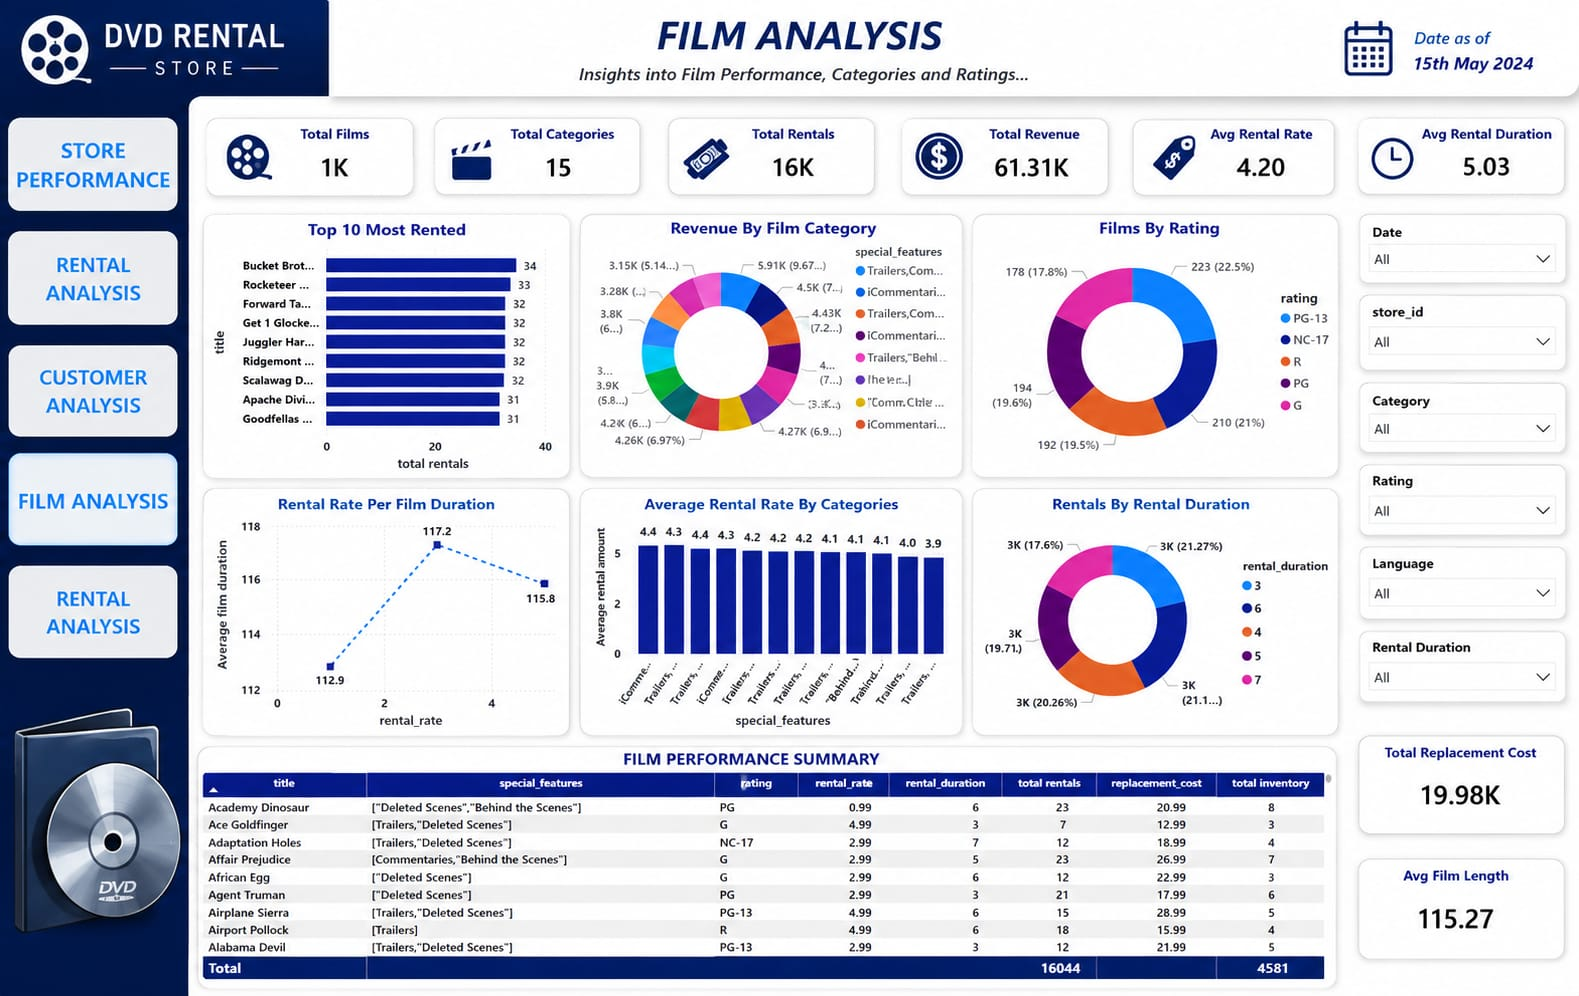

This screenshot's page, from the dashboard's own definition file:
{"tool":"powerbi","page":{"name":"Page 4","canvas":[1800,1200],"ordinal":3},"visuals":[{"type":"textbox","box":[0,0,1800,110],"z":0},{"type":"actionButton","box":[0,273.7,240,136.8],"z":0,"group":"g2"},{"type":"slicer","fields":{"Values":["public film.last_update"]},"box":[1527.5,280,260,103.3],"z":0,"group":"g1"},{"type":"cardVisual","title":"Total Films","fields":{"Data":["public film.total films"]},"box":[260,137.5,217.5,110],"z":1000},{"type":"slicer","fields":{"Values":["public store.store_id"]},"box":[1527.5,383.3,260,103.3],"z":1000,"group":"g1"},{"type":"actionButton","box":[0,410.4,240,136.8],"z":1000,"group":"g2"},{"type":"actionButton","title":"STORE PERFORMANCE","box":[0,137.5,240,136.8],"z":2000,"group":"g2"},{"type":"cardVisual","title":"Total Categories","fields":{"Data":["public film.Total Categories"]},"box":[495,137.5,240,110],"z":2000},{"type":"slicer","fields":{"Values":["public film.special_features"]},"box":[1527.5,486.7,260,103.3],"z":2000,"group":"g1"},{"type":"cardVisual","title":"Total Rentals","fields":{"Data":["public rental.total rentals"]},"box":[752.5,137.5,240,110],"z":3000},{"type":"actionButton","box":[0,556.5,240,136.8],"z":3000,"group":"g2"},{"type":"slicer","fields":{"Values":["public film.rating"]},"box":[1527.5,590,260,103.3],"z":3000,"group":"g1"},{"type":"cardVisual","title":"Total Revenue","fields":{"Data":["public payment.total revenue"]},"box":[1017.5,137.5,240,110],"z":4000},{"type":"slicer","fields":{"Values":["public language.name"]},"box":[1527.5,693.3,260,103.3],"z":4000,"group":"g1"},{"type":"actionButton","box":[0,705.7,240,136.8],"z":4000,"group":"g2"},{"type":"cardVisual","title":"Avg Rental Rate","fields":{"Data":["public payment.Average rental amount"]},"box":[1277.5,137.5,240,110],"z":5000},{"type":"slicer","fields":{"Values":["public film.rental_duration"]},"box":[1527.5,796.7,260,103.3],"z":5000,"group":"g1"},{"type":"cardVisual","title":"Avg Rental Duration","fields":{"Data":["public rental.Average rental duration"]},"box":[1537.5,137.5,240,110],"z":6000},{"type":"barChart","title":"Top 10 Most Rented","fields":{"Category":["public film.title"],"Y":["public rental.total rentals"]},"box":[260,280,377.5,300],"z":7000},{"type":"donutChart","title":"Revenue By Film Category","fields":{"Y":["public payment.total revenue"],"Category":["public film.special_features"]},"box":[672.5,280,400,300],"z":8000},{"type":"donutChart","title":"Films By Rating","fields":{"Y":["public film.total films"],"Category":["public film.rating"]},"box":[1095,280,400,300],"z":9000},{"type":"lineChart","title":"Rental Rate Per Film Duration","fields":{"Category":["public film.rental_rate"],"Y":["public film.Average film duration"]},"box":[260,600,377.5,300],"z":10000},{"type":"clusteredColumnChart","title":"Average Rental Rate By Categories","fields":{"Y":["public payment.Average rental amount"],"Category":["public film.special_features"]},"box":[672.5,600,400,300],"z":11000},{"type":"donutChart","title":"Rentals By Rental Duration","fields":{"Y":["public rental.total rentals"],"Category":["public film.rental_duration"]},"box":[1095,600,400,300],"z":12000},{"type":"tableEx","title":"FILM PERFORMANCE  SUMMARY","fields":{"Values":["public film.title","public film.special_features","public film.rating","public film.rental_rate","public film.rental_duration","public rental.total rentals","public film.replacement_cost","public inventory.total inventory"]},"box":[240,920,1277.5,280],"z":13000},{"type":"actionButton","box":[0,0,100,40],"z":14000},{"type":"cardVisual","title":"Avg Film Length","fields":{"Data":["public film.Average film duration"]},"box":[1537.5,1060,262.5,110],"z":15000},{"type":"cardVisual","title":"Total Replacement Cost","fields":{"Data":["public film.Total Replacement Cost"]},"box":[1537.5,920,262.5,110],"z":16000},{"type":"group","id":"g1","title":"Group 1","box":[1527.5,280,260,620],"z":17000},{"type":"group","id":"g2","title":"Group 2","box":[0,137.5,240,705],"z":18000},{"type":"image","box":[1367.5,10,150,100],"z":19000},{"type":"image","box":[0,0,332.5,110],"z":20000},{"type":"image","box":[0,847.5,240,352.5],"z":21000}]}

Visuals, with their boxes on the page's 1800x1200 design canvas (x1, y1, x2, y2). These are canvas units, not pixel positions in the 1579x996 screenshot, which may show the page scaled, cropped or inside an application window:
textbox: [left=0, top=0, right=1800, bottom=110]
actionButton: [left=0, top=274, right=240, bottom=410]
slicer - public film.last_update: [left=1528, top=280, right=1788, bottom=383]
"Total Films" cardVisual: [left=260, top=138, right=478, bottom=248]
slicer - public store.store_id: [left=1528, top=383, right=1788, bottom=487]
actionButton: [left=0, top=410, right=240, bottom=547]
"STORE PERFORMANCE" actionButton: [left=0, top=138, right=240, bottom=274]
"Total Categories" cardVisual: [left=495, top=138, right=735, bottom=248]
slicer - public film.special_features: [left=1528, top=487, right=1788, bottom=590]
"Total Rentals" cardVisual: [left=752, top=138, right=992, bottom=248]
actionButton: [left=0, top=556, right=240, bottom=693]
slicer - public film.rating: [left=1528, top=590, right=1788, bottom=693]
"Total Revenue" cardVisual: [left=1018, top=138, right=1258, bottom=248]
slicer - public language.name: [left=1528, top=693, right=1788, bottom=797]
actionButton: [left=0, top=706, right=240, bottom=842]
"Avg Rental Rate" cardVisual: [left=1278, top=138, right=1518, bottom=248]
slicer - public film.rental_duration: [left=1528, top=797, right=1788, bottom=900]
"Avg Rental Duration" cardVisual: [left=1538, top=138, right=1778, bottom=248]
"Top 10 Most Rented" barChart: [left=260, top=280, right=638, bottom=580]
"Revenue By Film Category" donutChart: [left=672, top=280, right=1072, bottom=580]
"Films By Rating" donutChart: [left=1095, top=280, right=1495, bottom=580]
"Rental Rate Per Film Duration" lineChart: [left=260, top=600, right=638, bottom=900]
"Average Rental Rate By Categories" clusteredColumnChart: [left=672, top=600, right=1072, bottom=900]
"Rentals By Rental Duration" donutChart: [left=1095, top=600, right=1495, bottom=900]
"FILM PERFORMANCE  SUMMARY" tableEx: [left=240, top=920, right=1518, bottom=1200]
actionButton: [left=0, top=0, right=100, bottom=40]
"Avg Film Length" cardVisual: [left=1538, top=1060, right=1800, bottom=1170]
"Total Replacement Cost" cardVisual: [left=1538, top=920, right=1800, bottom=1030]
"Group 1" group: [left=1528, top=280, right=1788, bottom=900]
"Group 2" group: [left=0, top=138, right=240, bottom=842]
image: [left=1368, top=10, right=1518, bottom=110]
image: [left=0, top=0, right=332, bottom=110]
image: [left=0, top=848, right=240, bottom=1200]
